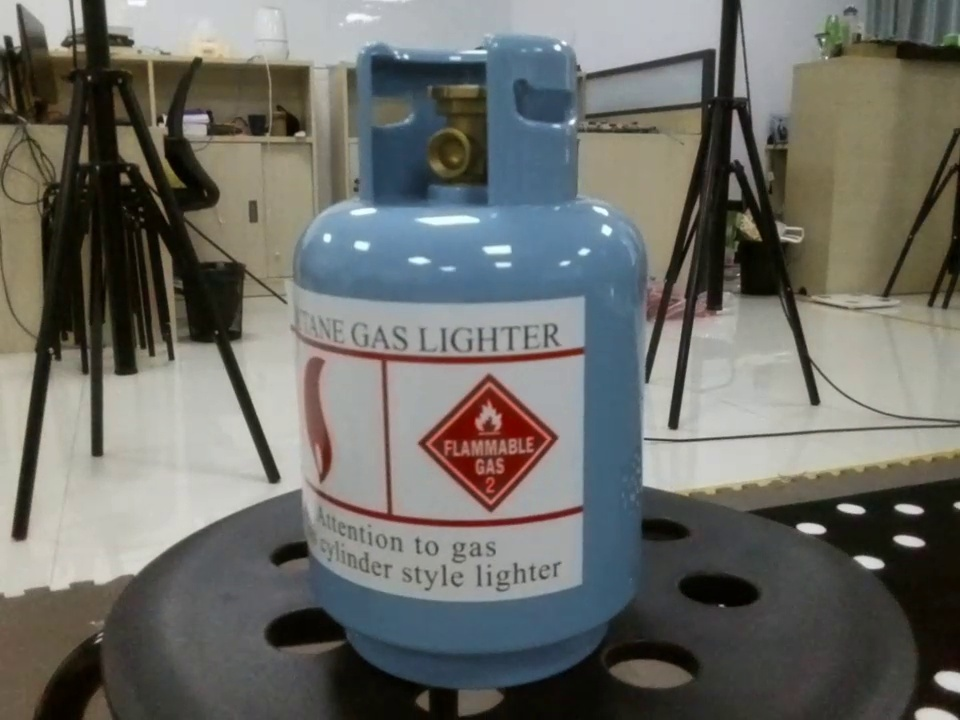gas tank: (285, 32, 656, 688)
